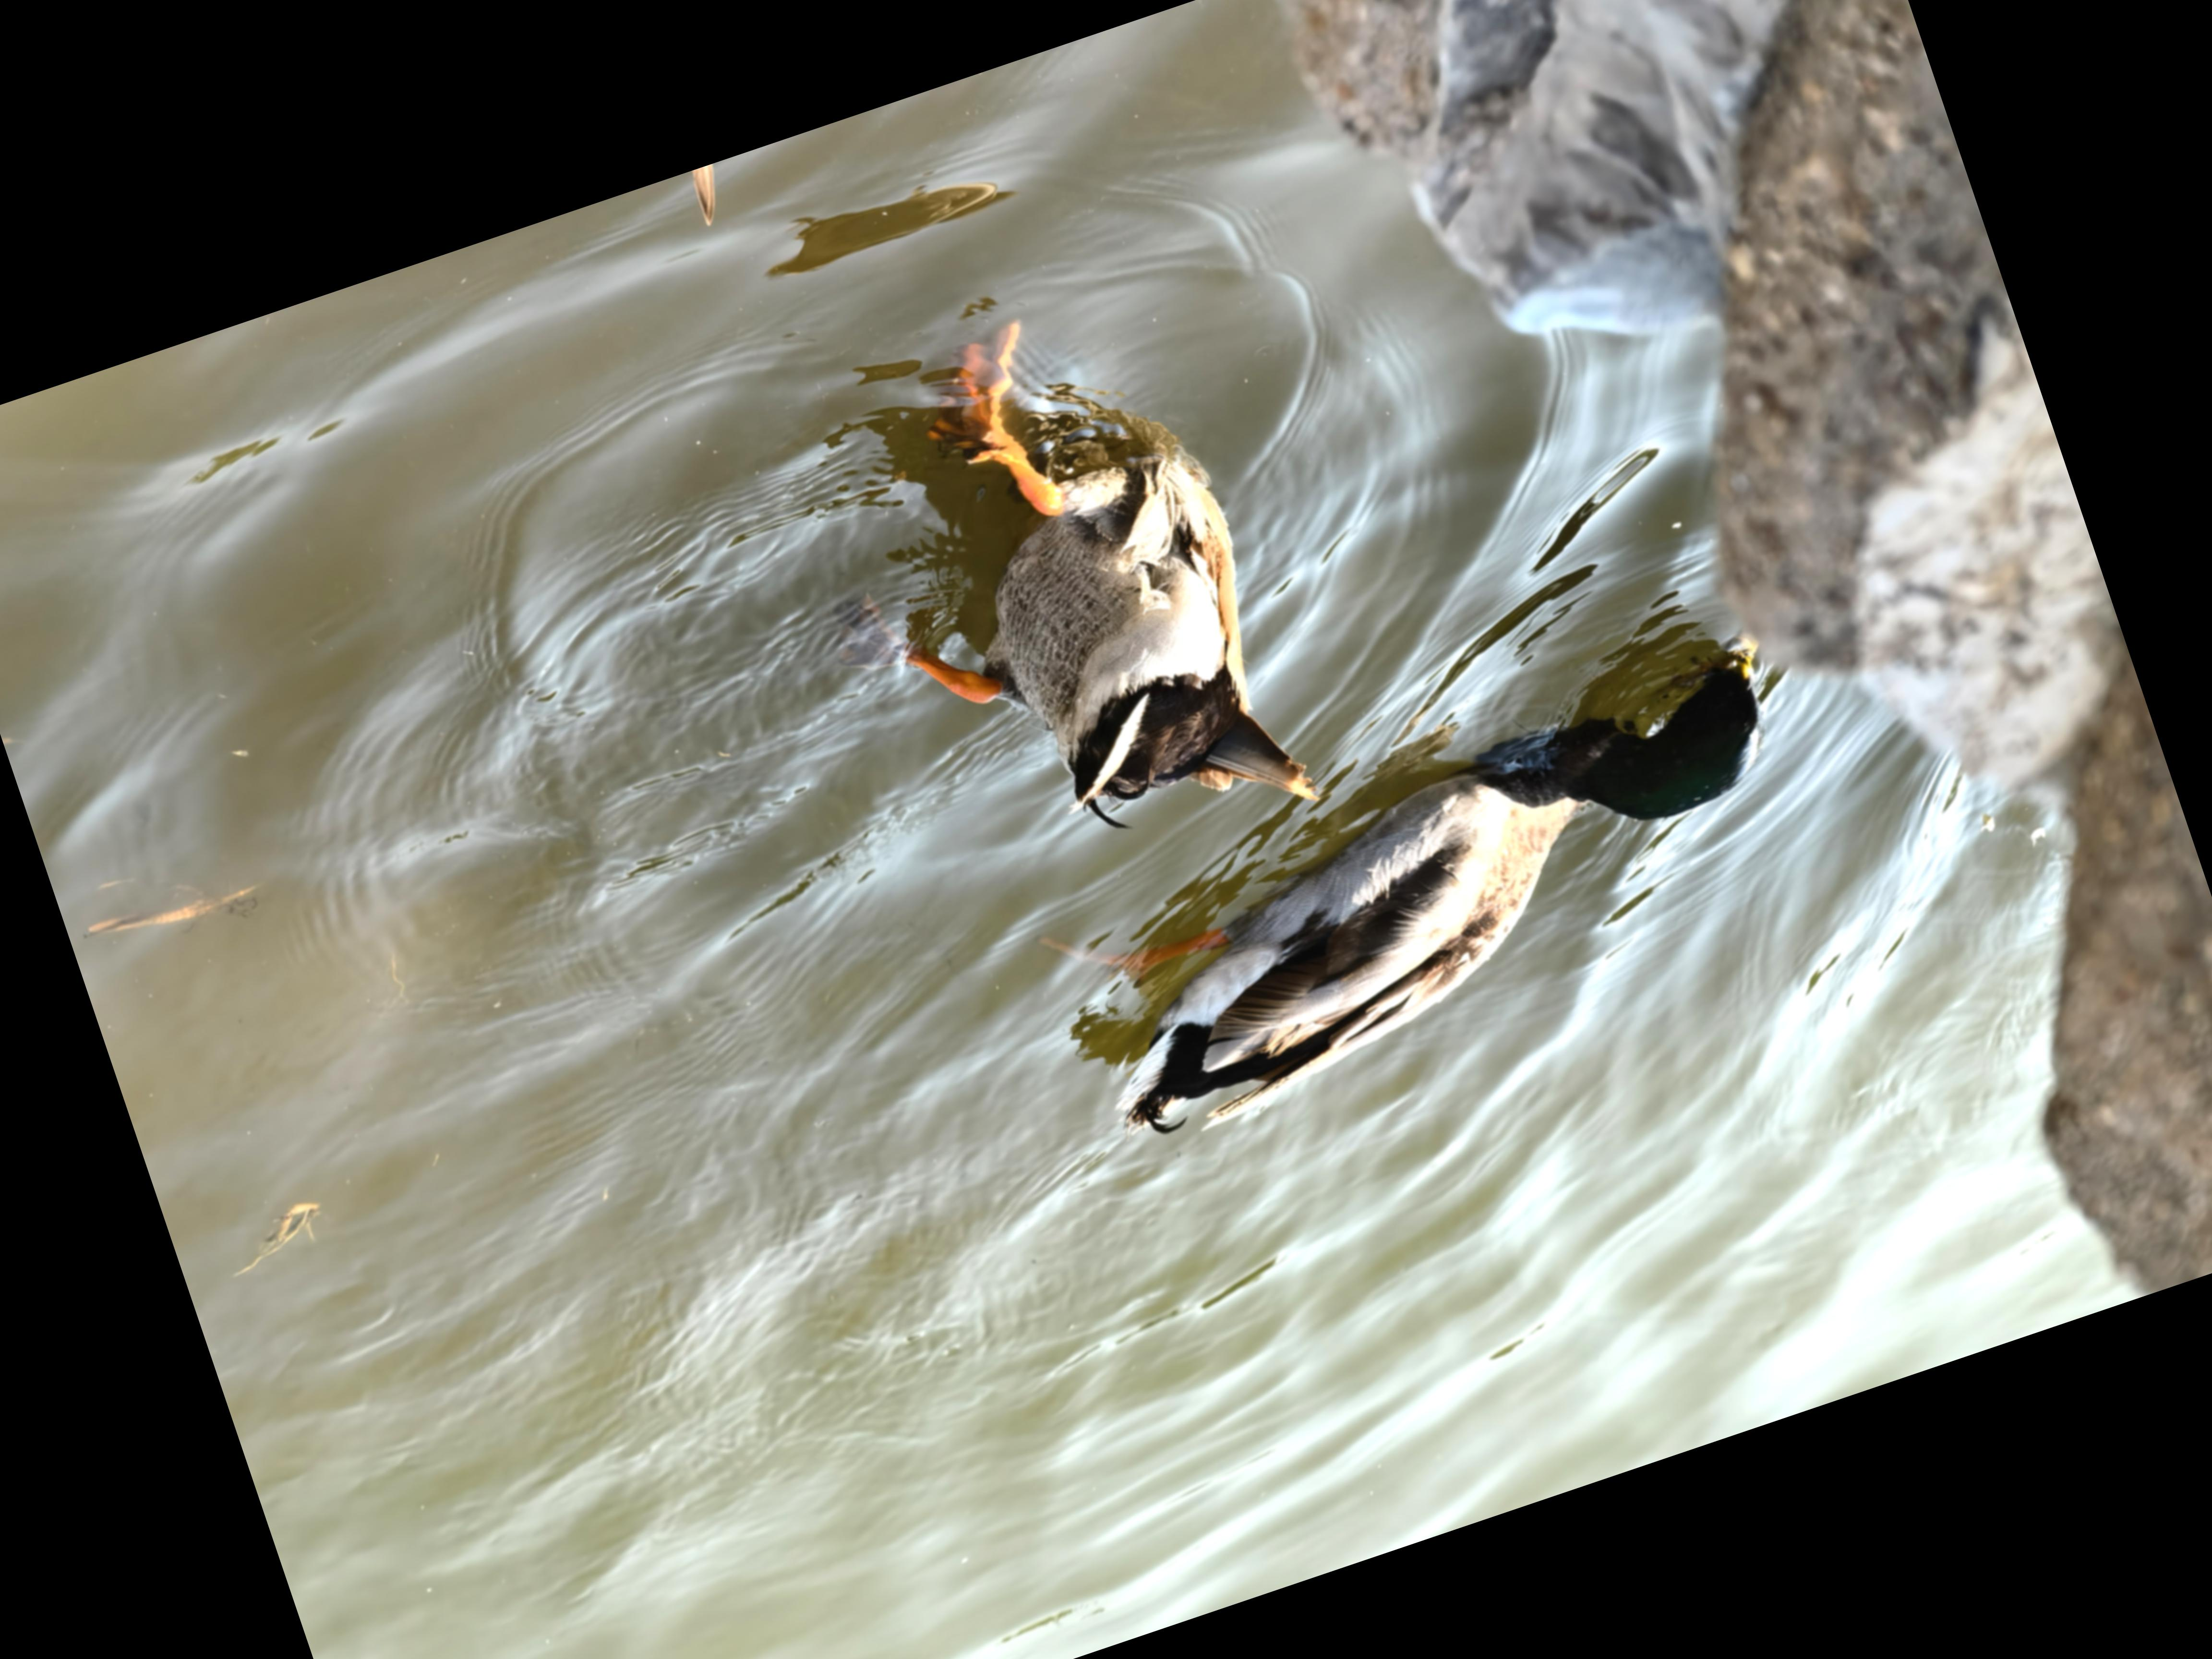duck: (949, 565, 1912, 1223), (782, 256, 1381, 934)
